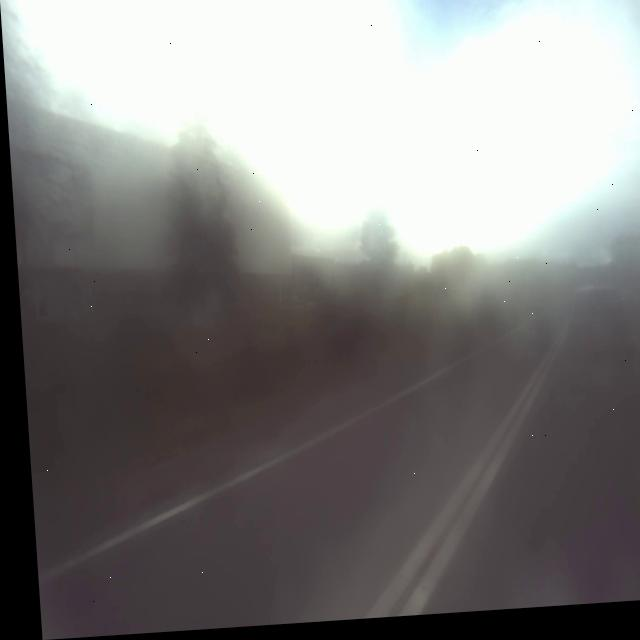car: (565, 278, 624, 380)
